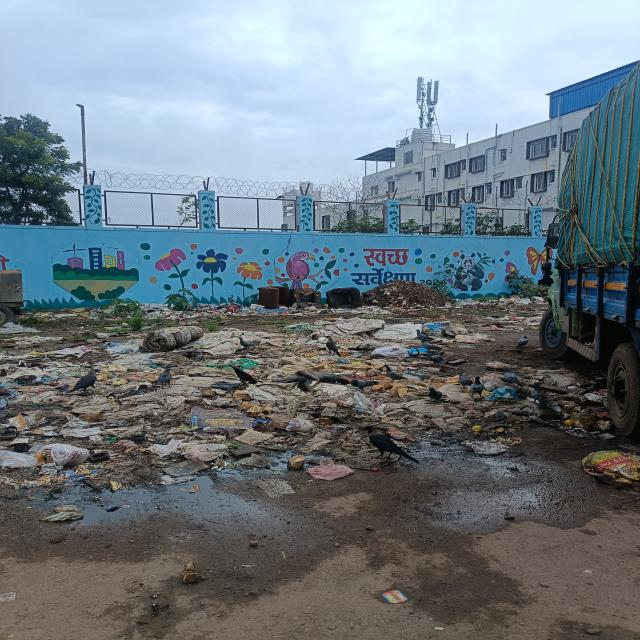garbage: (0, 326, 601, 475), (255, 282, 454, 312), (82, 301, 249, 319), (458, 296, 545, 308)
